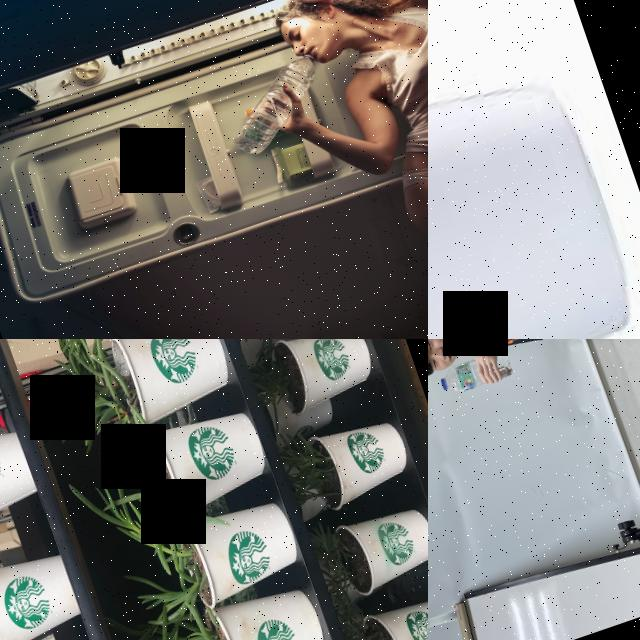bottle: (212, 49, 340, 160), (434, 348, 512, 398)
cup: (428, 0, 640, 339), (140, 396, 275, 522), (172, 488, 308, 611), (296, 407, 417, 515), (105, 339, 239, 431), (325, 497, 428, 602), (261, 339, 381, 418), (199, 571, 333, 640), (0, 540, 86, 640), (0, 414, 43, 537), (354, 584, 428, 640)
